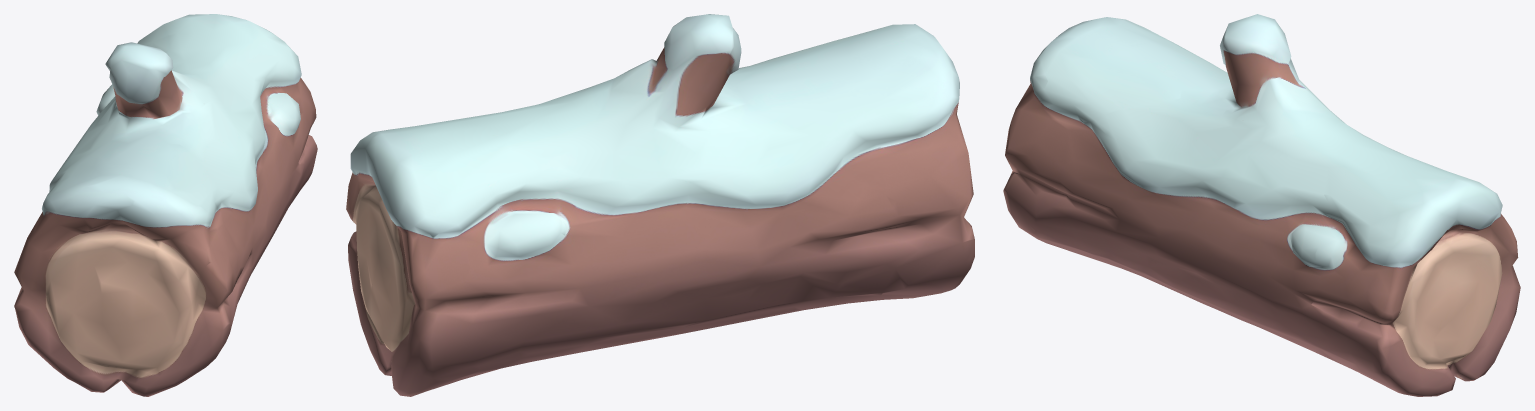
Rendered from log.glb.
The picture shows the model from 3 angles, left to right: view 1: azimuth 30°, elevation 25°; view 2: azimuth 150°, elevation 25°; view 3: azimuth 270°, elevation 25°; orthographic projection. The views are drawn at different scales.
Parts seen in each view (by area): view 1: tripo_node_d63d74fe-0bb1-4d43-b541-1a5fcee76234; view 2: tripo_node_d63d74fe-0bb1-4d43-b541-1a5fcee76234; view 3: tripo_node_d63d74fe-0bb1-4d43-b541-1a5fcee76234.
Boxes of the visible parts, left/top/right/bottom form: tripo_node_d63d74fe-0bb1-4d43-b541-1a5fcee76234: left=14, top=14, right=317, bottom=396; tripo_node_d63d74fe-0bb1-4d43-b541-1a5fcee76234: left=346, top=14, right=974, bottom=396; tripo_node_d63d74fe-0bb1-4d43-b541-1a5fcee76234: left=1003, top=14, right=1520, bottom=396.
Bounding box in the file's own units: 0.9302 × 0.599 × 0.9825.
Materials: 1 (1 with a texture image).
